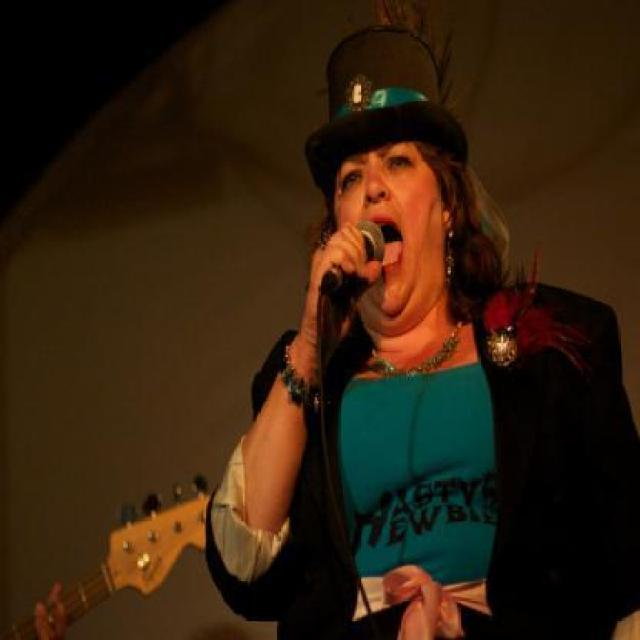Person: (198, 22, 639, 640)
